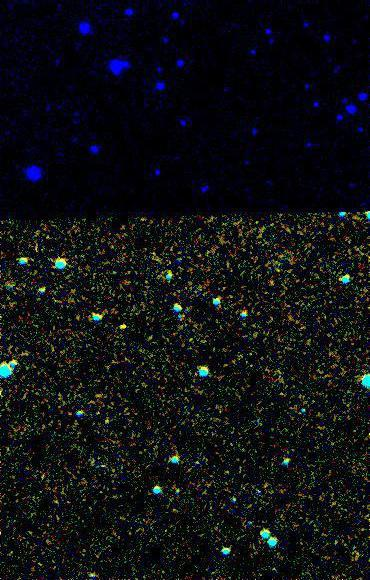star: (105, 312, 135, 342)
